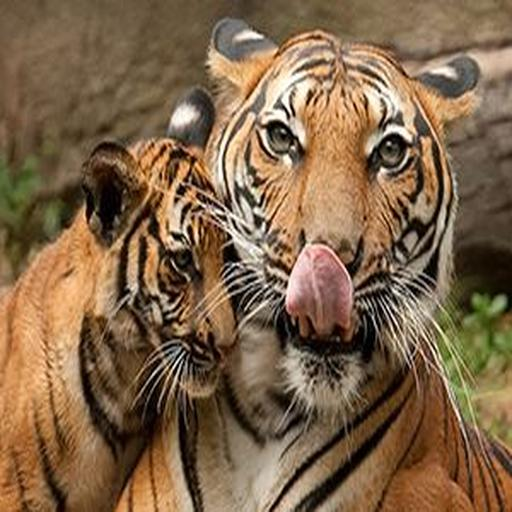Tiger: (83, 13, 512, 512), (0, 87, 246, 512)
